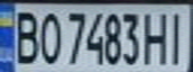3: (121, 8, 145, 65)
4: (84, 8, 106, 65)
7: (63, 8, 84, 65)
8: (103, 8, 124, 65)
B: (9, 7, 42, 65)
H: (142, 8, 172, 65)
I: (163, 7, 193, 65)
O: (36, 7, 63, 65)
